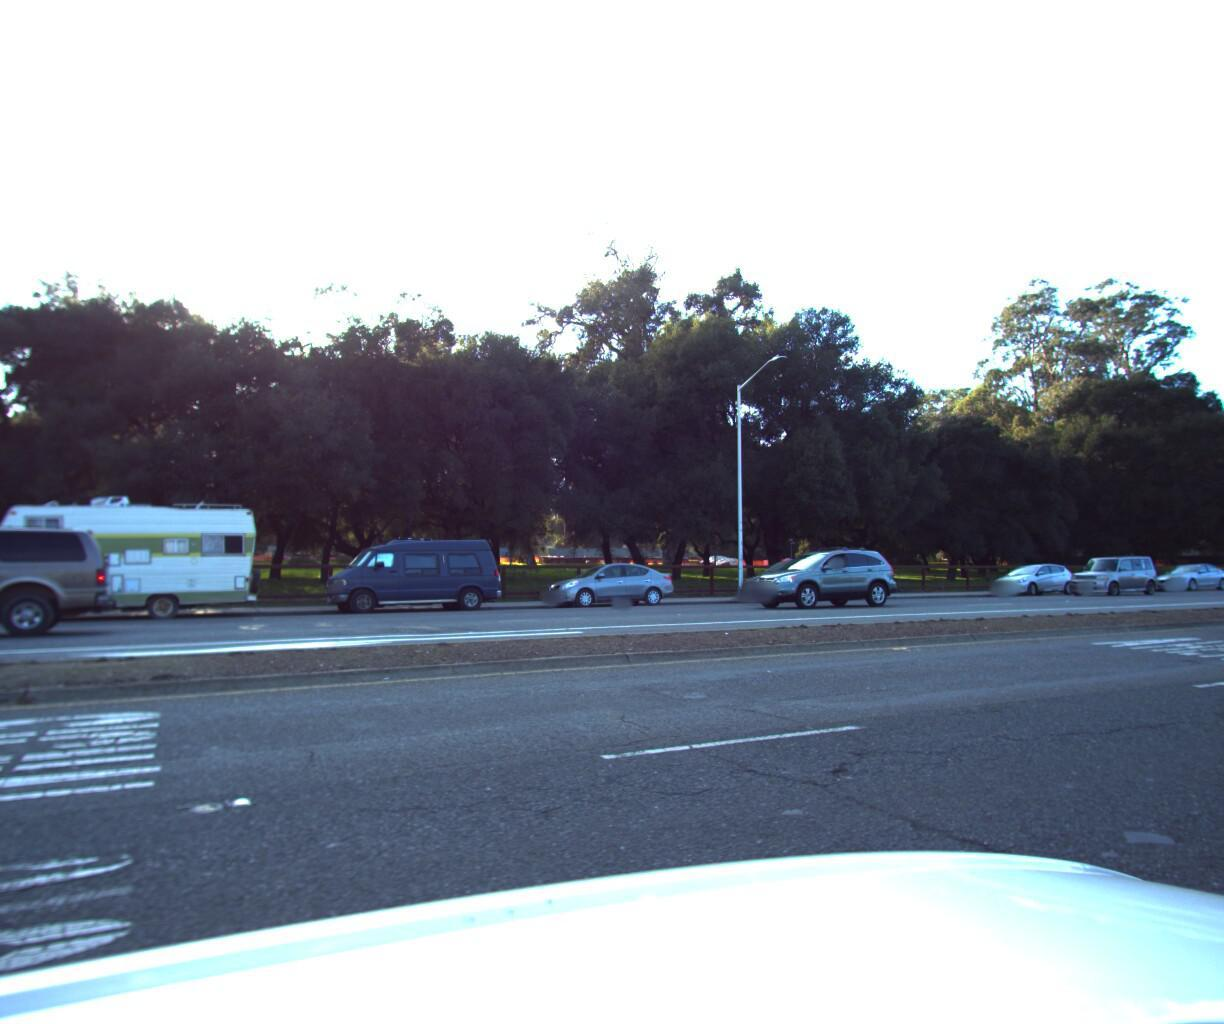car: (318, 530, 513, 618), (0, 519, 127, 647), (738, 538, 910, 611), (536, 555, 678, 611), (725, 550, 867, 604), (1054, 554, 1168, 596), (981, 556, 1075, 597), (1201, 530, 1224, 648), (1143, 555, 1224, 588), (0, 498, 2, 717)
other_vehicle: (0, 484, 274, 629)
